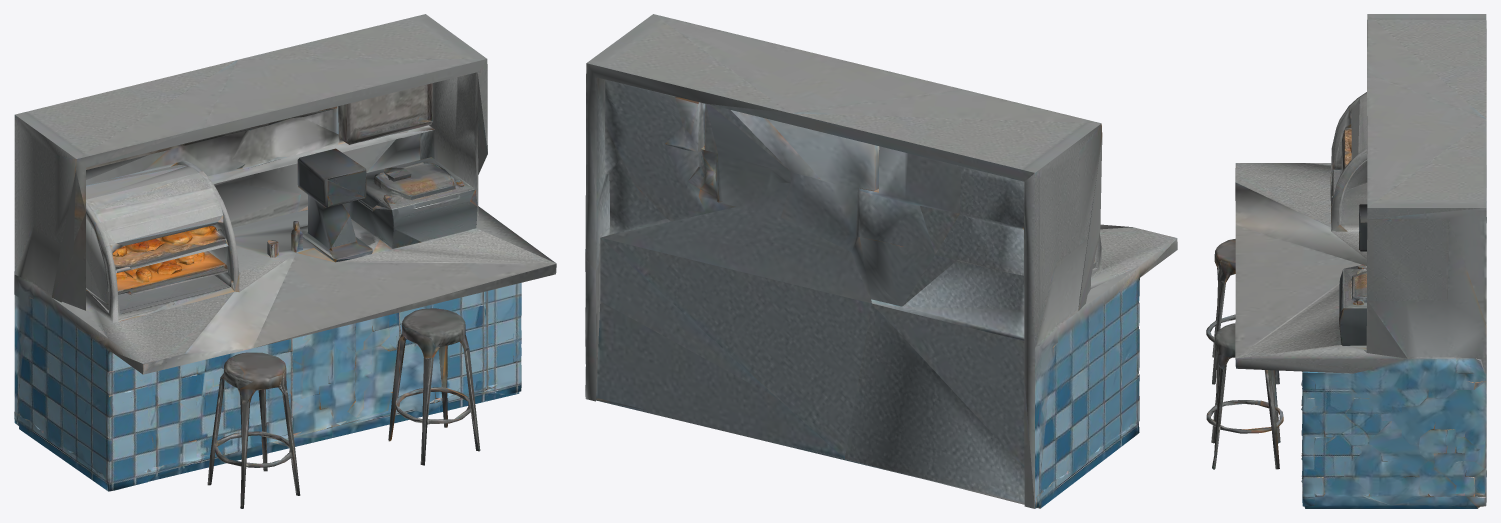
The model's file is fv_bar_counter.glb.
3 renders of one model, left to right at view 1: azimuth 30°, elevation 25°; view 2: azimuth 150°, elevation 25°; view 3: azimuth 270°, elevation 25°, orthographic. The views are drawn at different scales.
Parts seen in each view (by area): view 1: fv_bar_counter; view 2: fv_bar_counter; view 3: fv_bar_counter.
Part boxes in pixels (<box>): fv_bar_counter: <box>14,14,556,508</box>; fv_bar_counter: <box>585,14,1177,508</box>; fv_bar_counter: <box>1206,14,1486,508</box>.
Size of the model in its own units: 3.2 by 2.31 by 1.94.
Materials: 1 (1 with a texture image).
